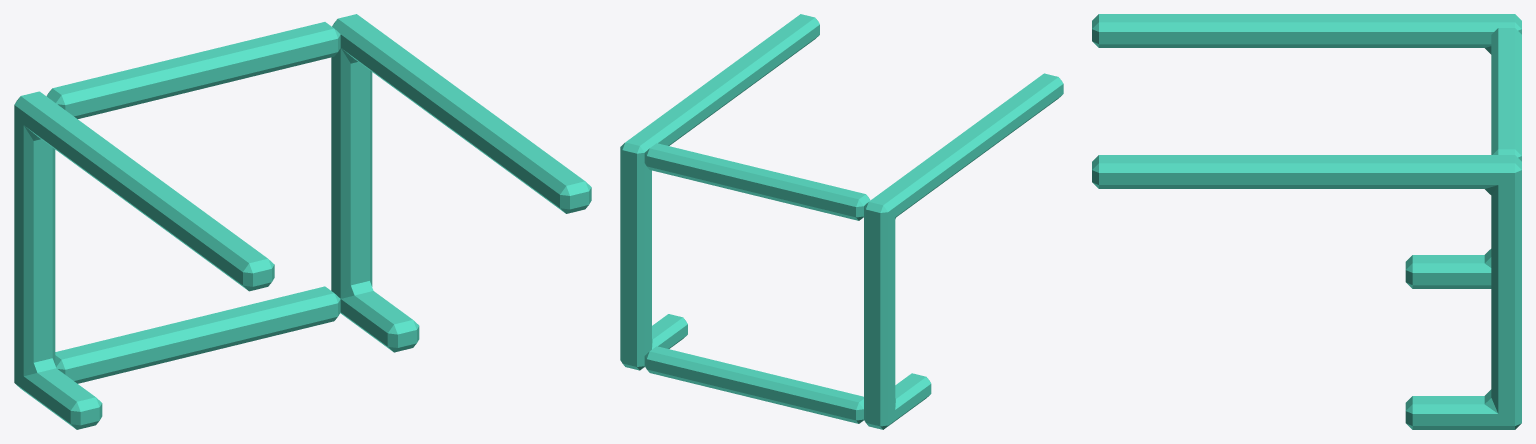
The picture shows the model from 3 angles, left to right: view 1: azimuth 30°, elevation 25°; view 2: azimuth 150°, elevation 25°; view 3: azimuth 270°, elevation 25°; orthographic projection. The views are drawn at different scales.
Bounding box in the file's own units: 0.9934 × 0.7967 × 1.16.
